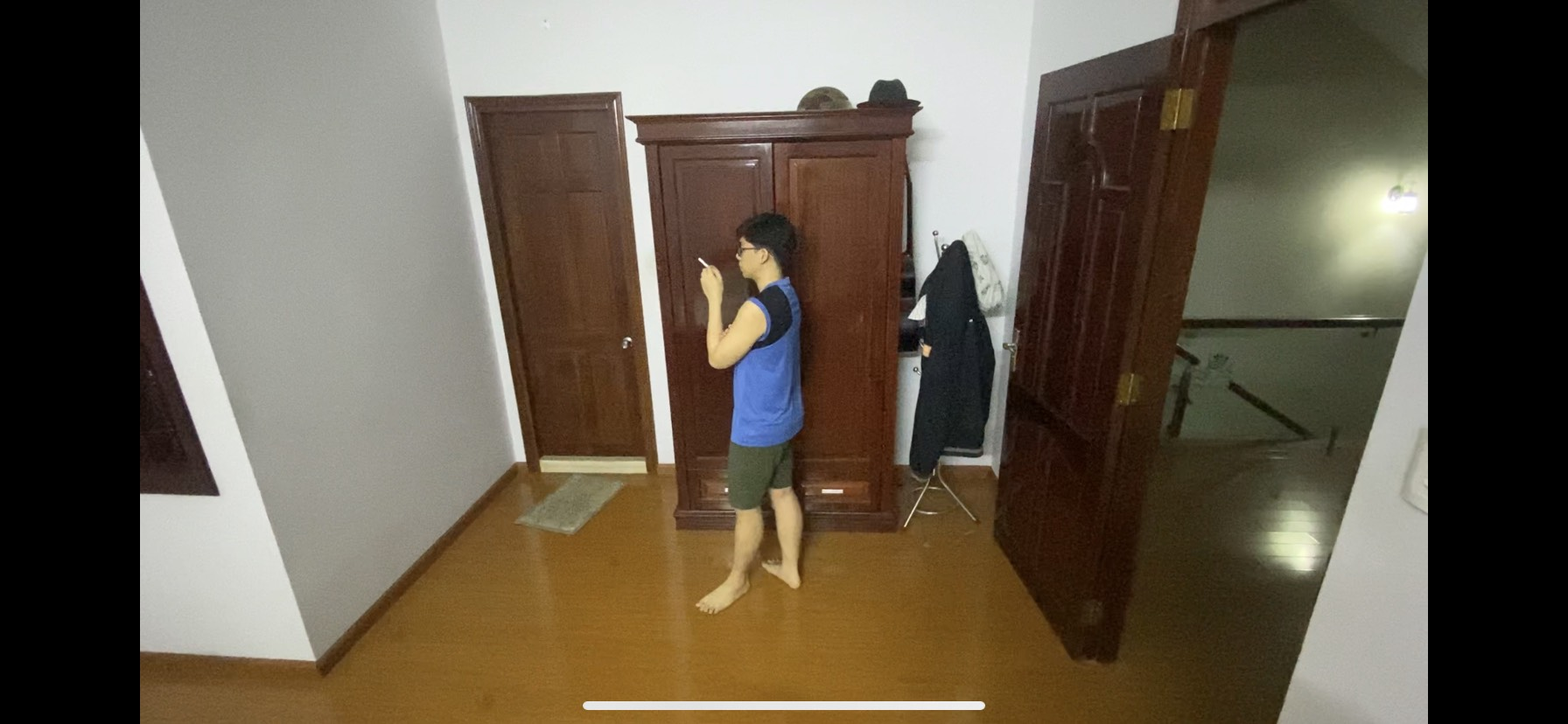cigarette: (696, 255, 709, 268)
person: (671, 210, 821, 621)
